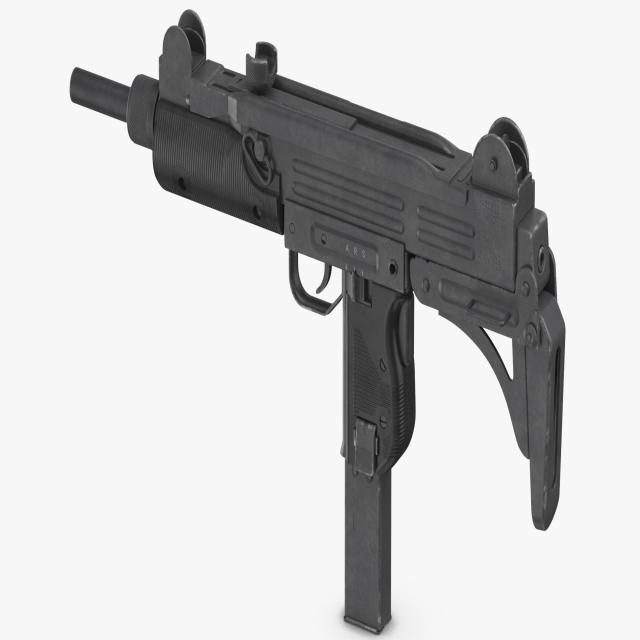weapon: (62, 5, 570, 628)
